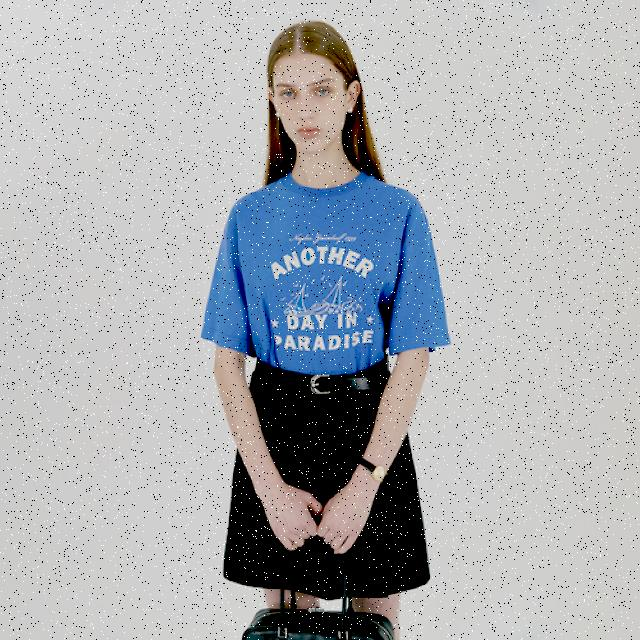Blouse_deep: (198, 166, 447, 382)
